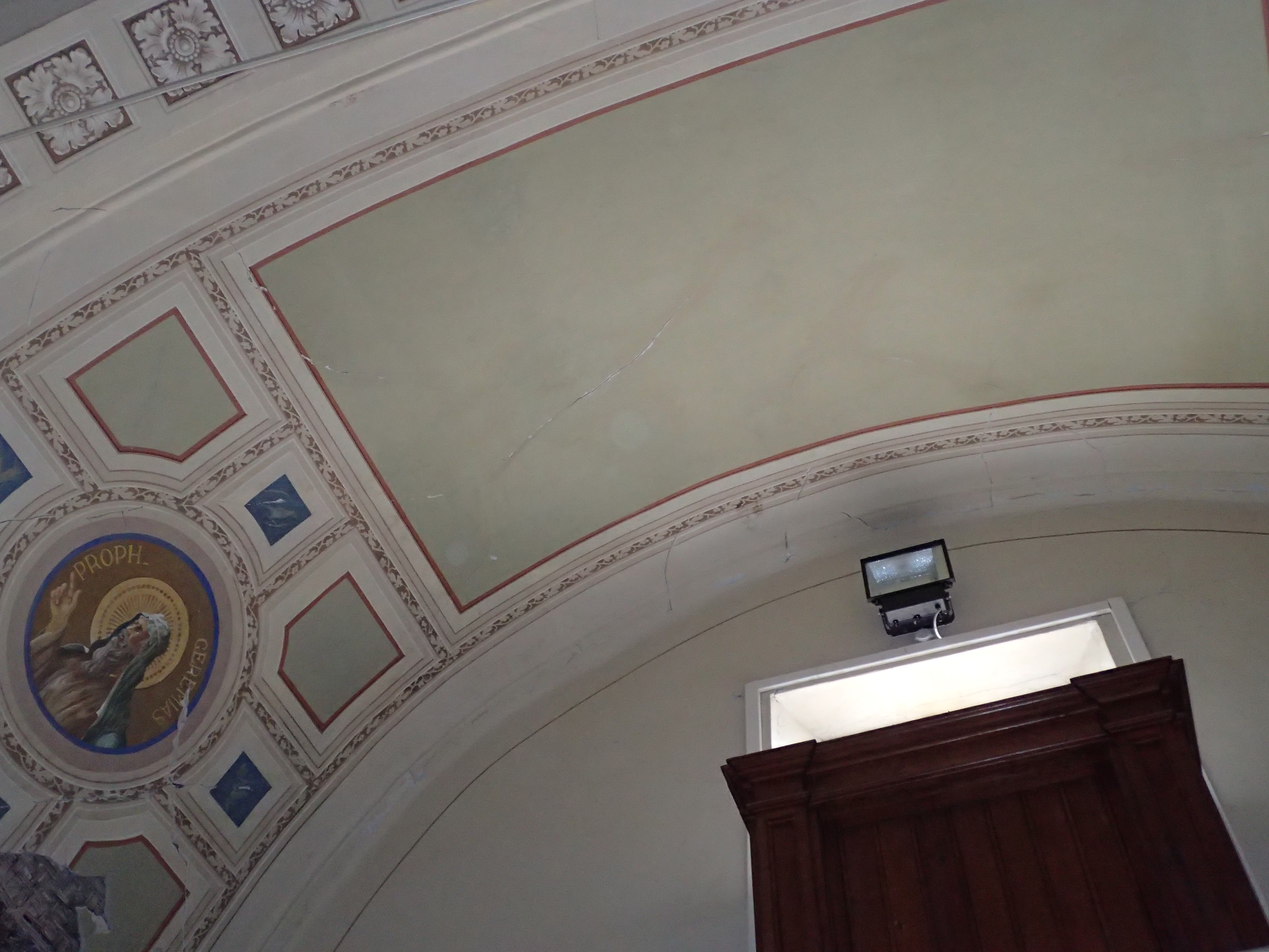Crack: (9, 206, 1168, 605)
